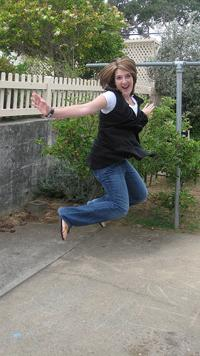person: (31, 52, 156, 238)
